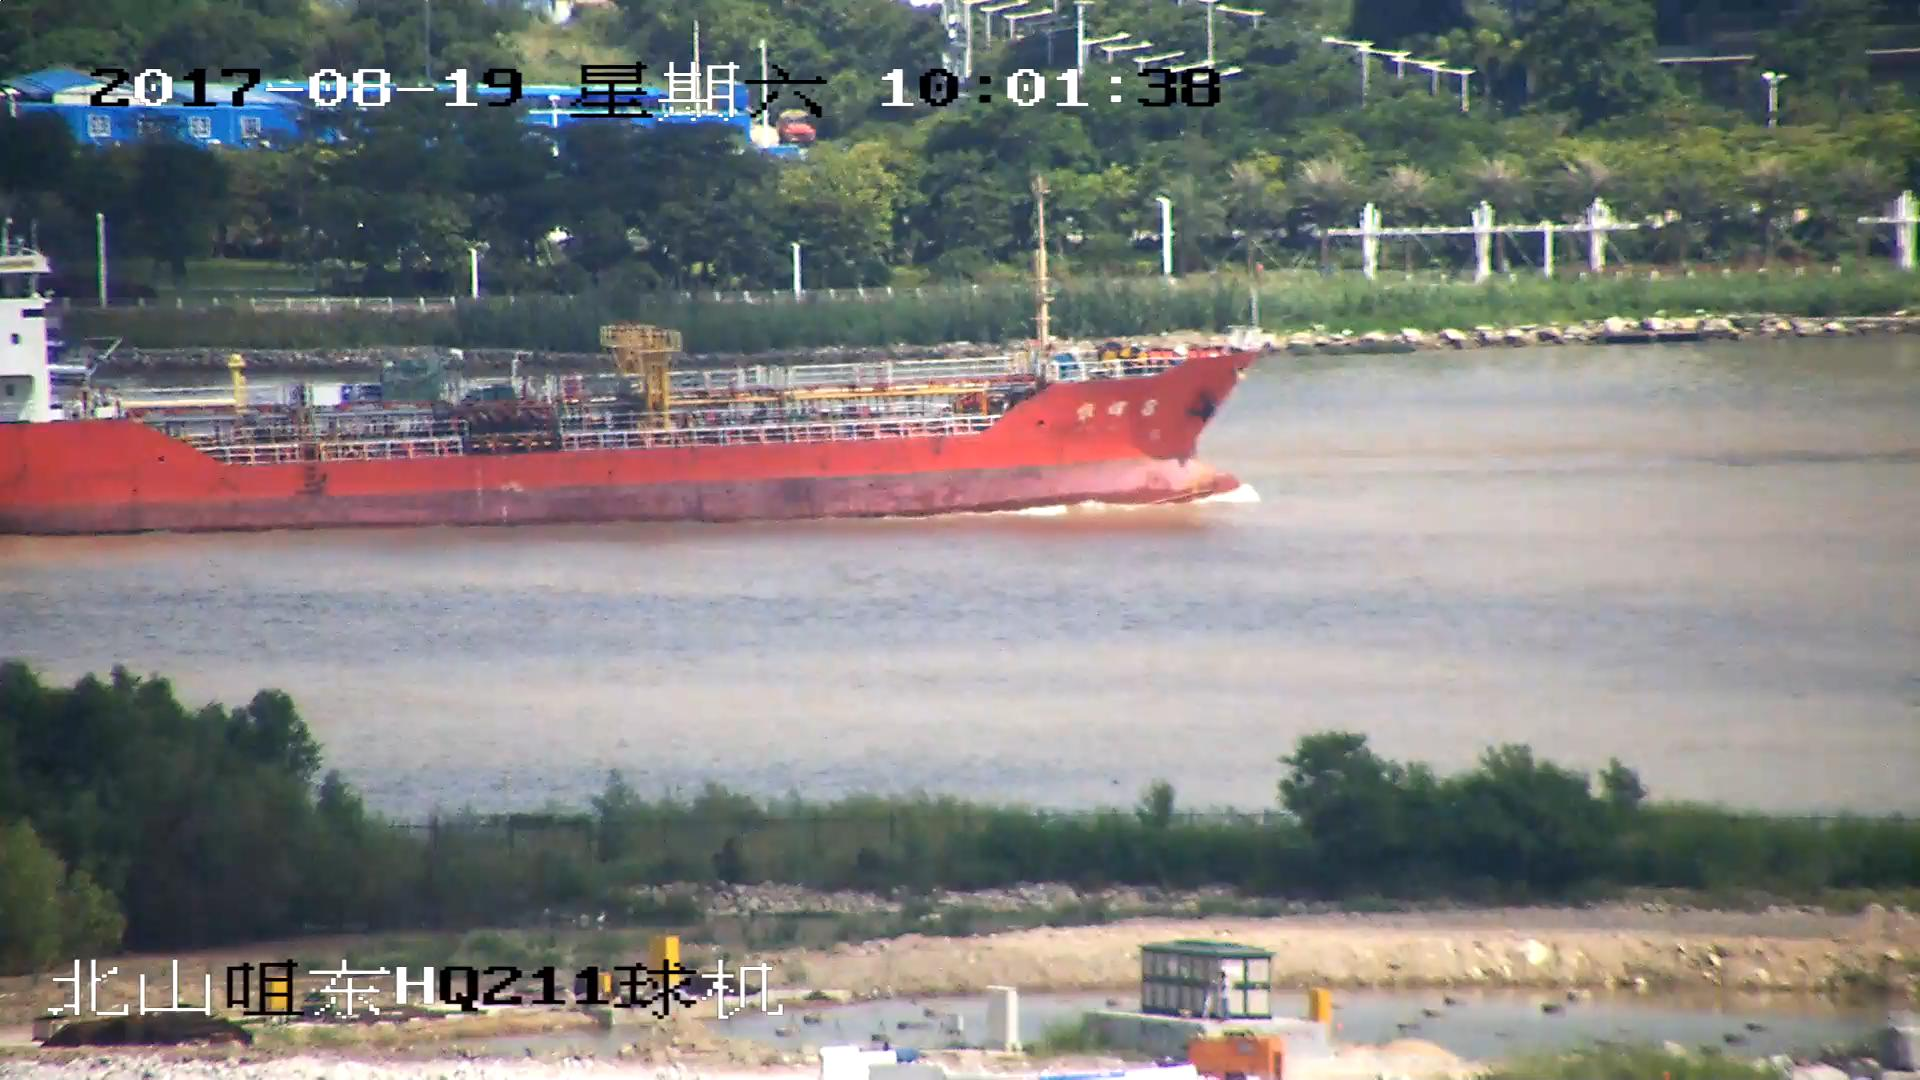general cargo ship: (1, 242, 1244, 520)
